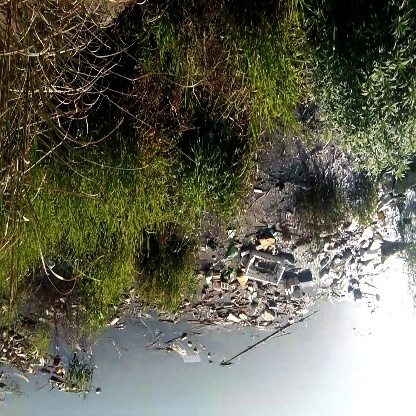branch: (223, 326, 297, 369)
